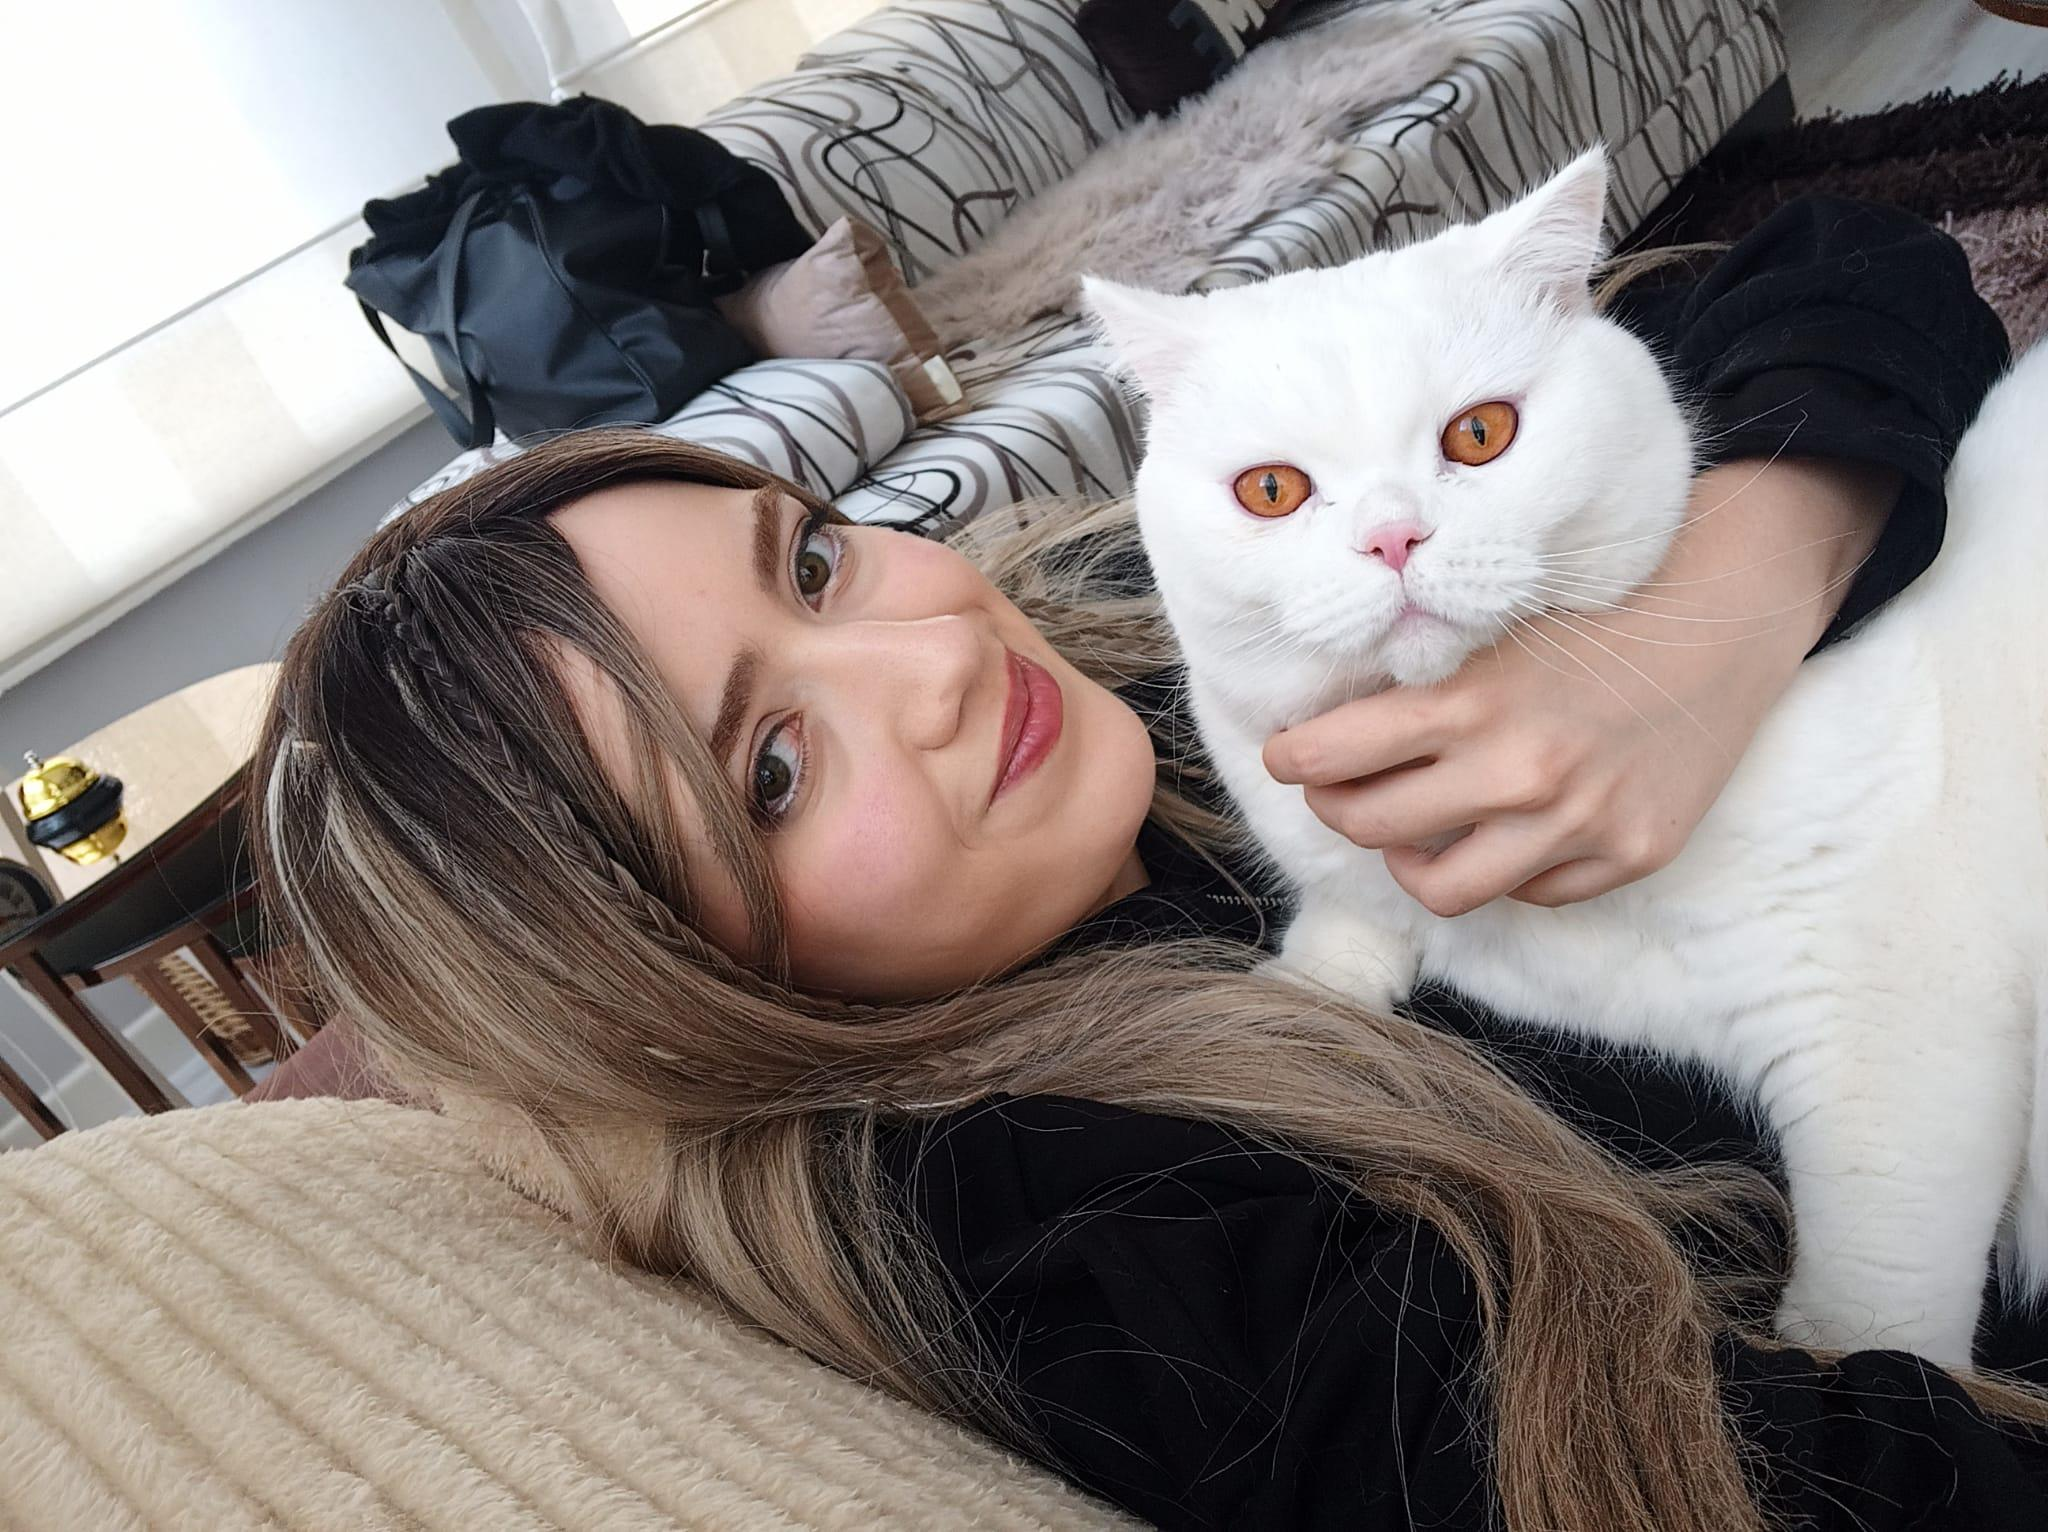kedo: (1083, 154, 1696, 676)
